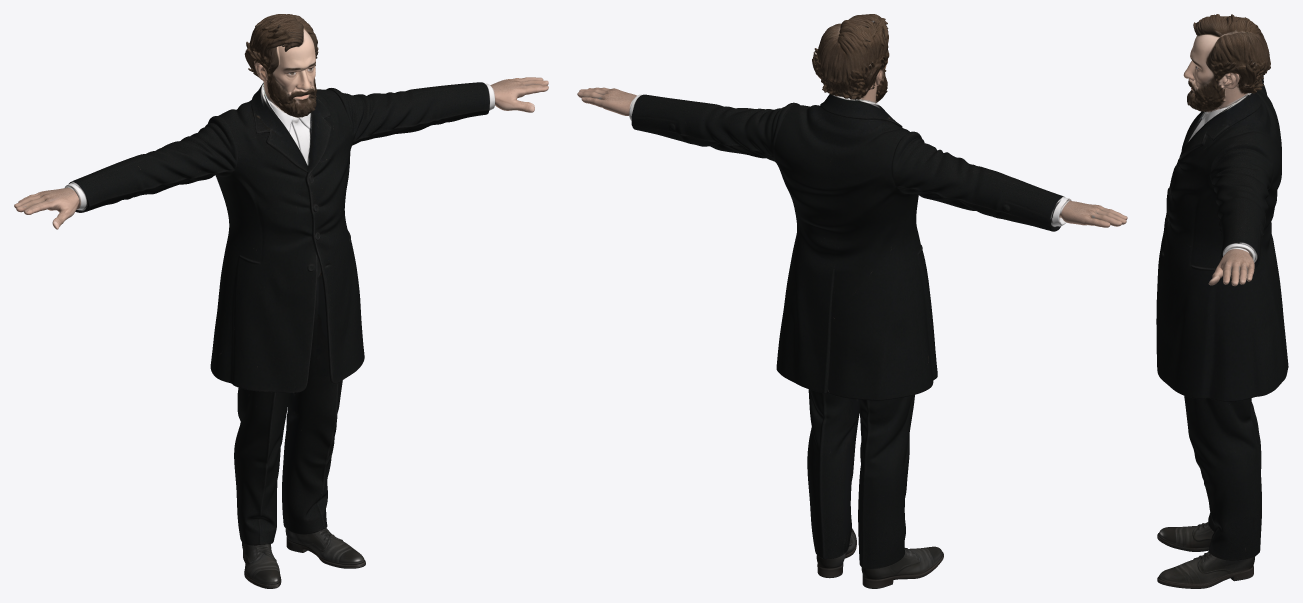
Rendered from john-whitmer-tpose.glb.
The picture shows the model from 3 angles, left to right: view 1: azimuth 30°, elevation 25°; view 2: azimuth 150°, elevation 25°; view 3: azimuth 270°, elevation 25°; orthographic projection. The views are drawn at different scales.
Bounding box in the file's own units: 1.9 × 1.84 × 0.4036.
Materials: 1 (1 with a texture image).
